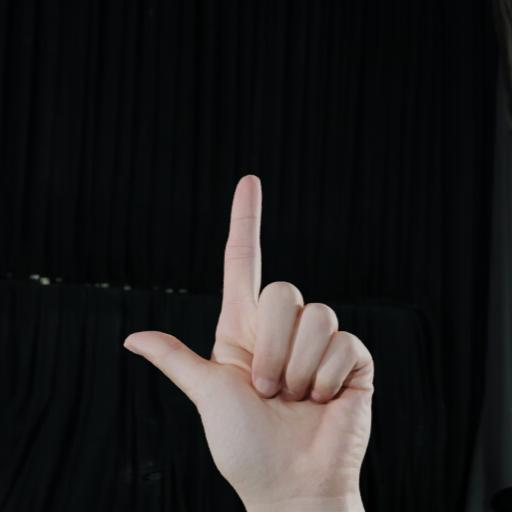L: (118, 171, 379, 512)
